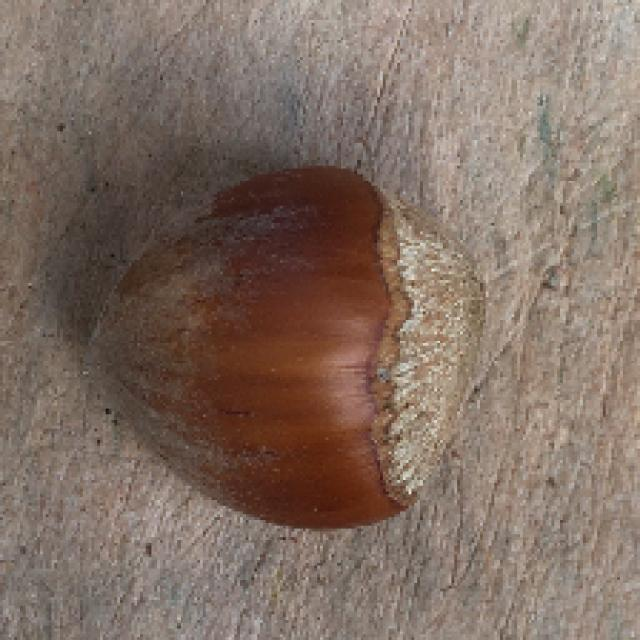QualityHazelnut: (82, 168, 483, 529)
